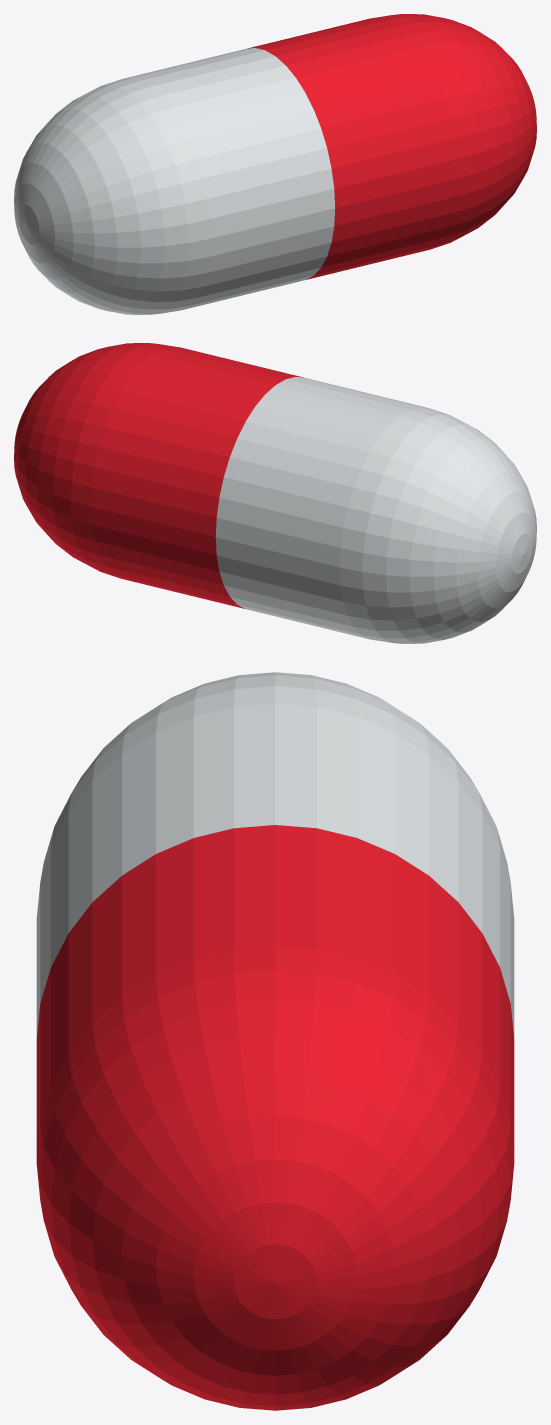
File: tinker.obj
3 renders of one model, top to bottom at view 1: azimuth 30°, elevation 25°; view 2: azimuth 150°, elevation 25°; view 3: azimuth 270°, elevation 25°, orthographic. The views are drawn at different scales.
Parts seen in each view (by area): view 1: group_0_14541540, group_0_15277357; view 2: group_0_14541540, group_0_15277357; view 3: group_0_15277357, group_0_14541540.
Boxes of the visible parts, x1,y1,x2,y2 form: group_0_14541540: (14, 48, 335, 314); group_0_15277357: (247, 14, 536, 279); group_0_14541540: (215, 377, 536, 643); group_0_15277357: (14, 343, 303, 608); group_0_15277357: (36, 825, 514, 1410); group_0_14541540: (36, 672, 514, 1038).
Size of the model in its own units: 36 by 15 by 15.
